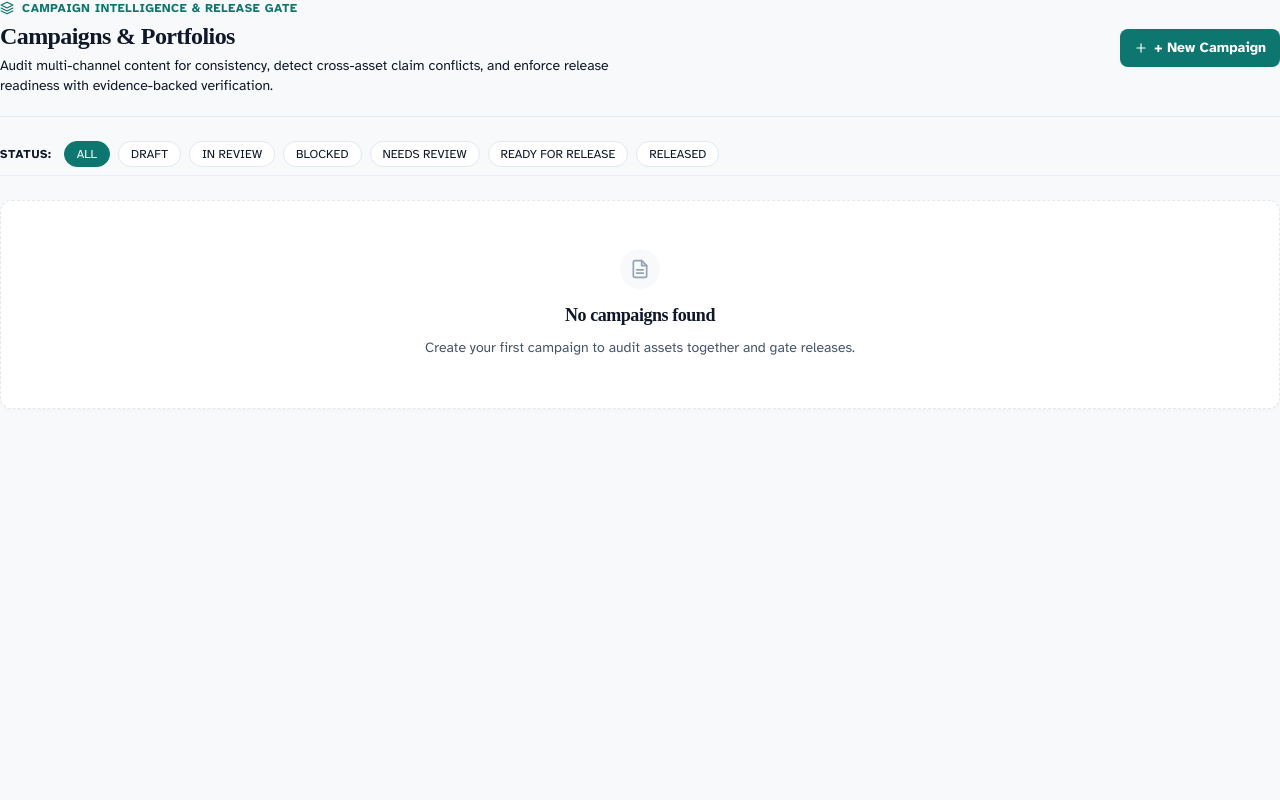
Phase 6 Frontend Campaign Components › P6-34: Campaign creation modal creates new campaign and adds to list
Expected: the heading "Campaigns & Portfolios" is shown, [0,23,235,49]
Click the button "+ New Campaign".
click(1200, 48)  # box [1120,29,1279,67]
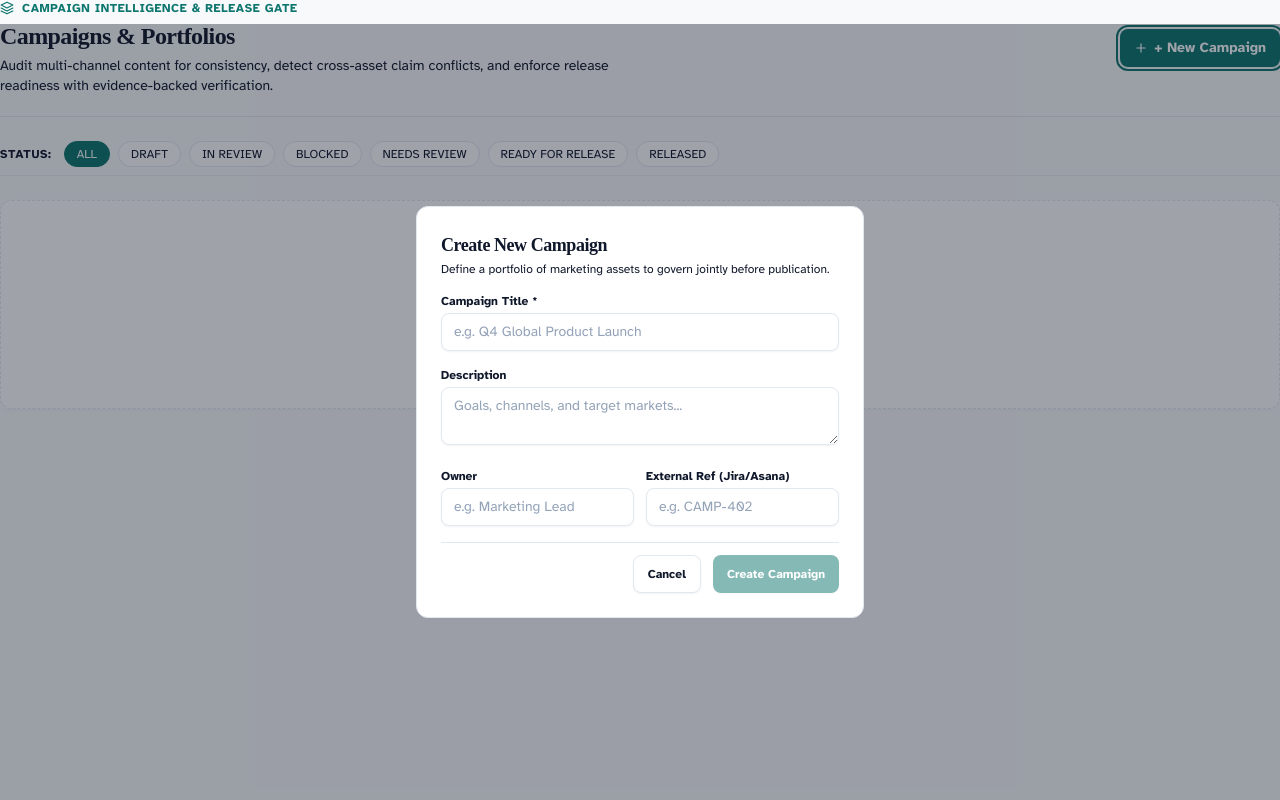
Expected: the heading "Create New Campaign" is shown, [441,235,607,255]
Type "Winter Holiday Campaign" into the field labelled "Campaign Title *".
click(640, 332); type("Winter Holiday Campaign")  # box [441,313,839,351]
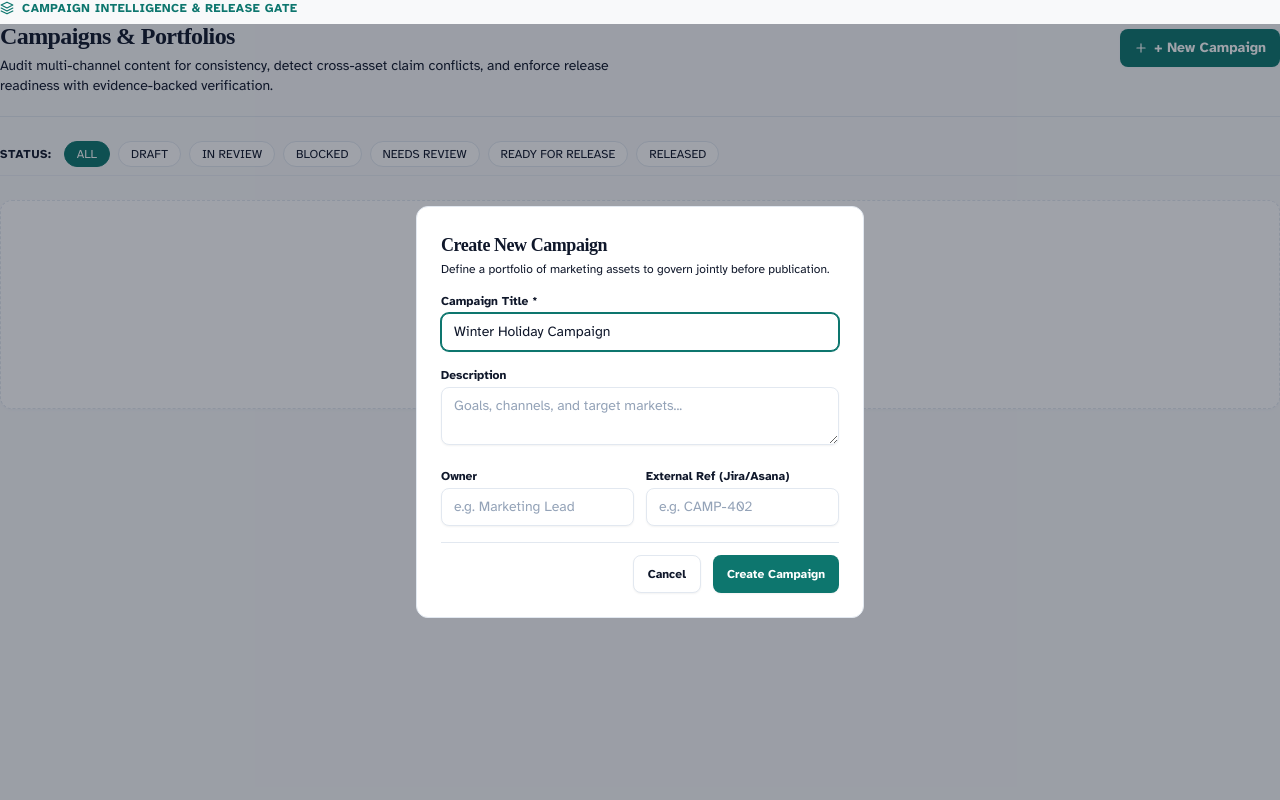
Type "Holiday marketing push" into the text box labelled "Description".
click(640, 416); type("Holiday marketing push")  # box [441,387,839,445]
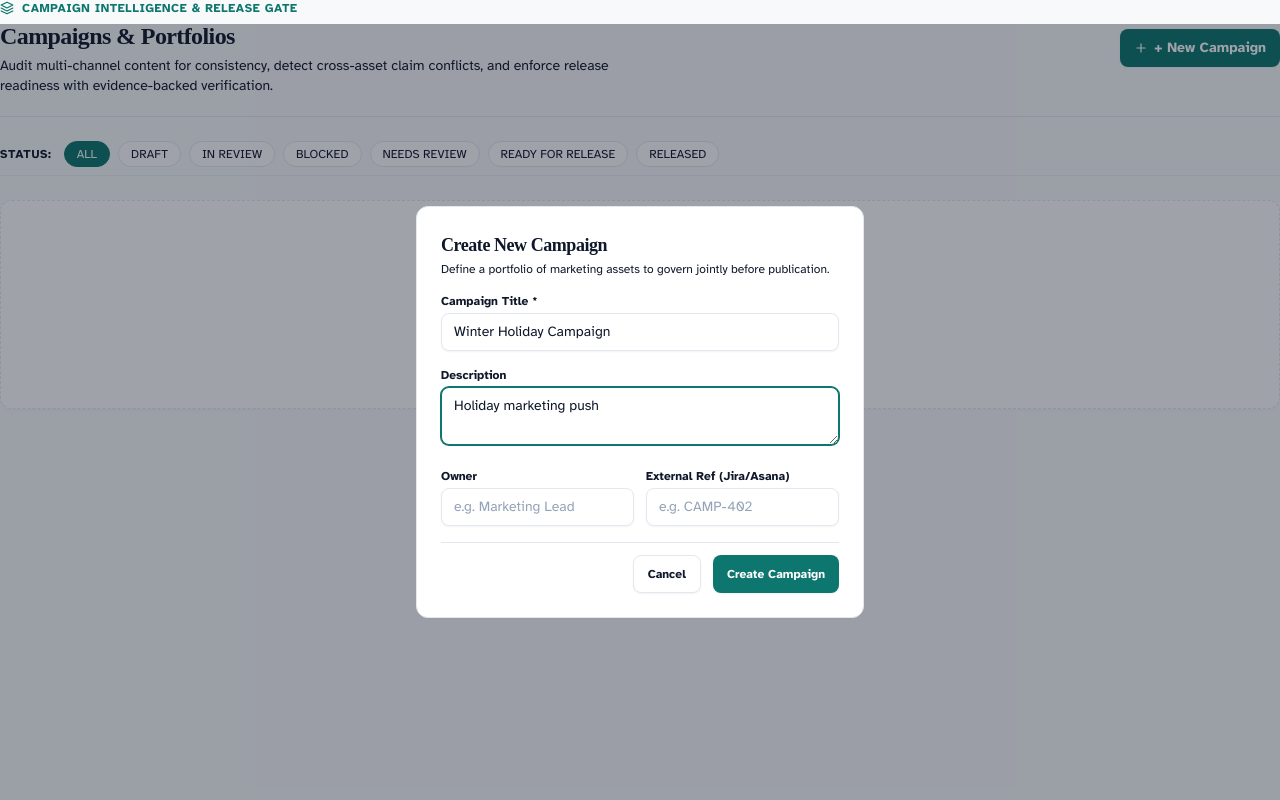
Click the button "Create Campaign".
click(776, 574)  # box [713,555,839,593]
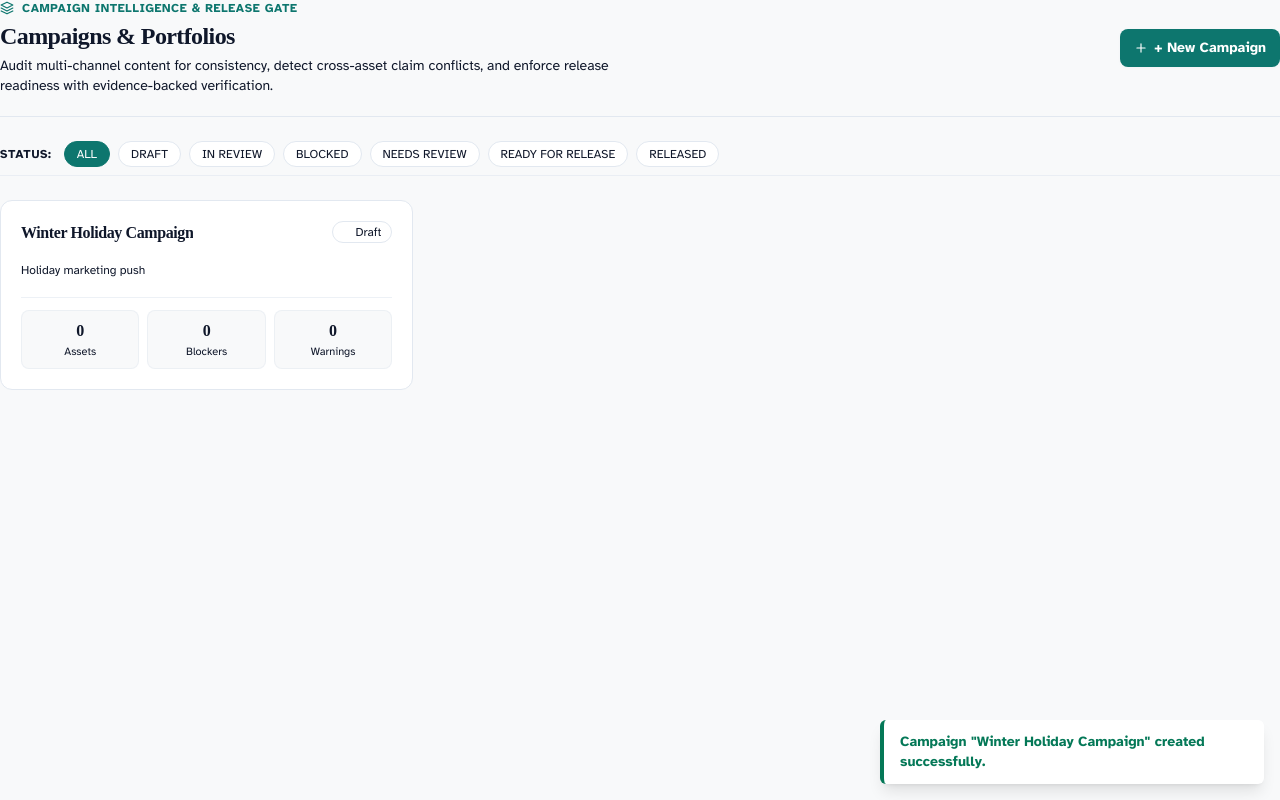
Expected: the heading "Winter Holiday Campaign" is shown, [21,221,194,245]
